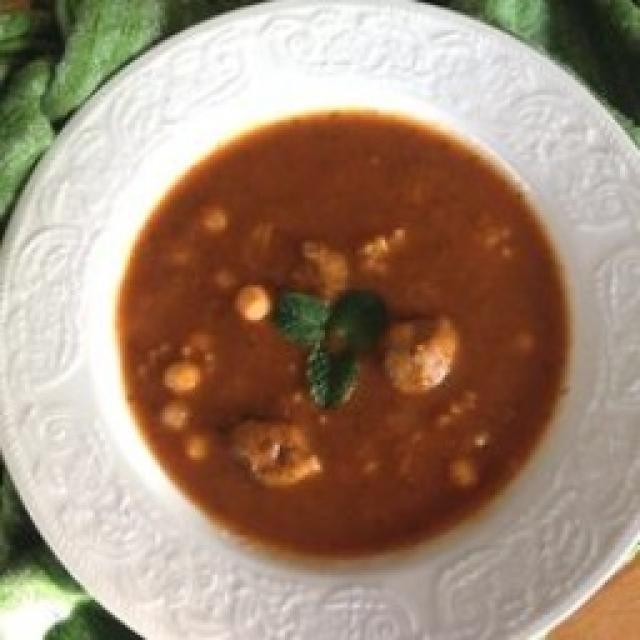Kamouniya: (119, 112, 569, 553)
